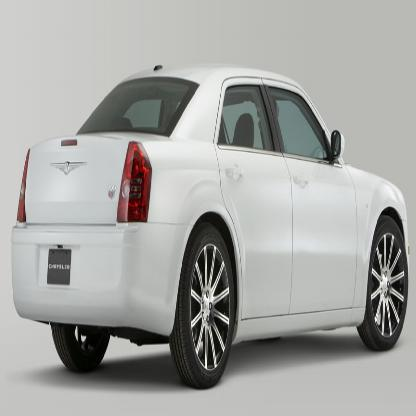Vehicle: (8, 49, 414, 404)
